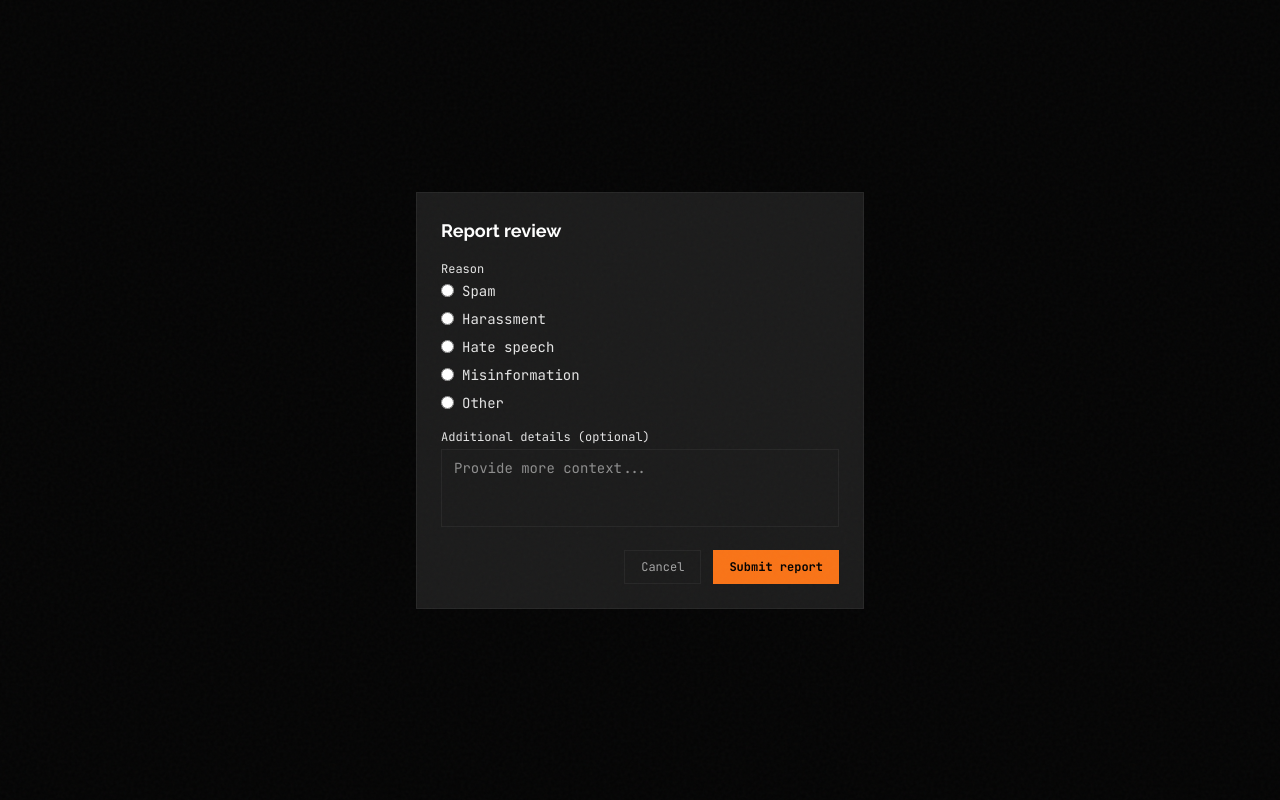
ReportModal › shows error message when reportReview fails
Click the radio button labelled "Other" at (448, 402), box [441,396,454,409]
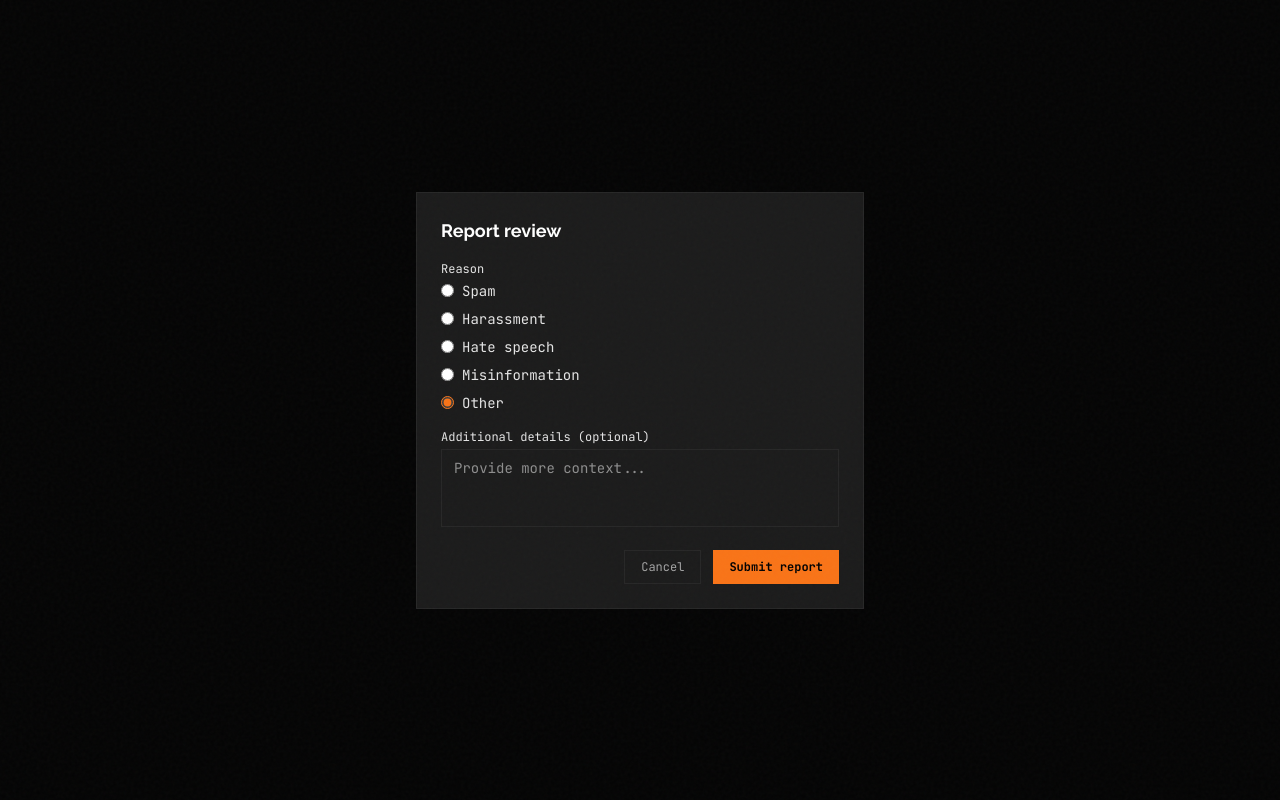
Click the button "Submit report" at (776, 566), box [713,550,839,584]
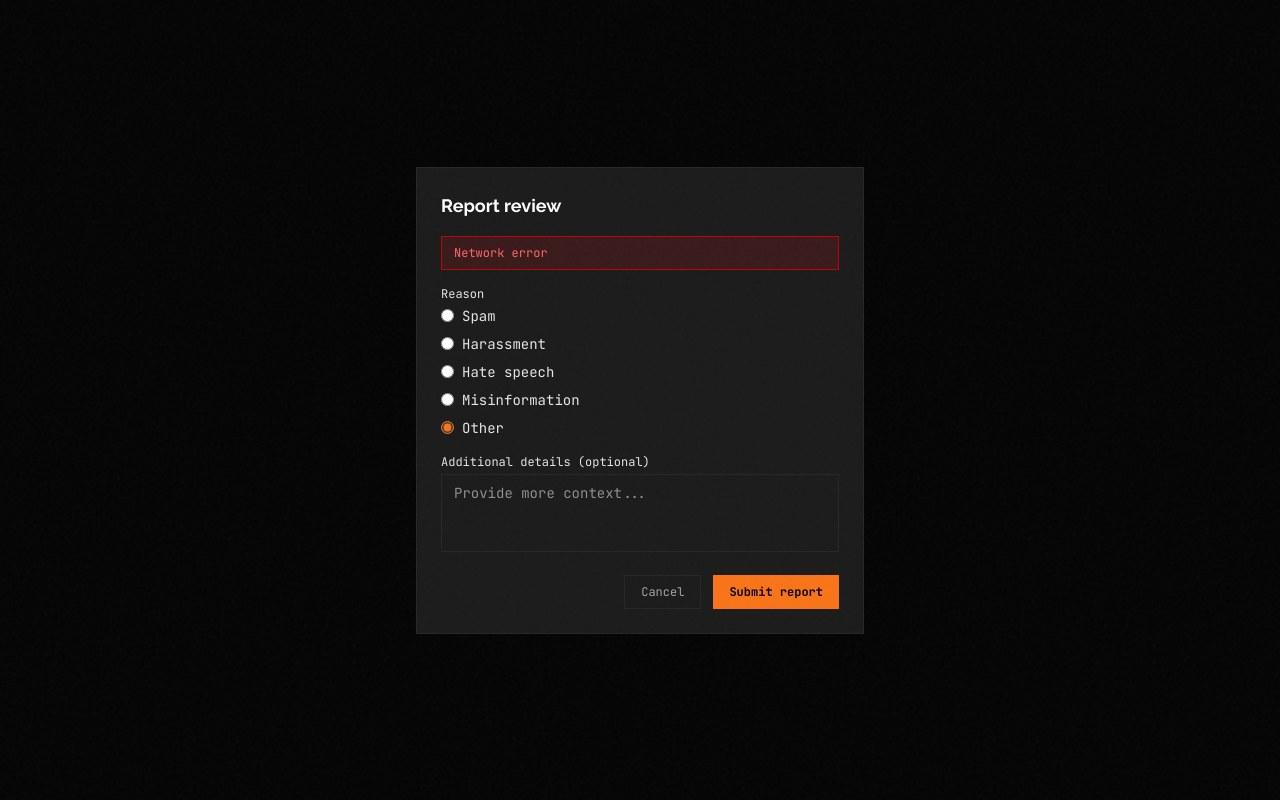
Now the text "Network error" is shown, box [441,236,839,270]
